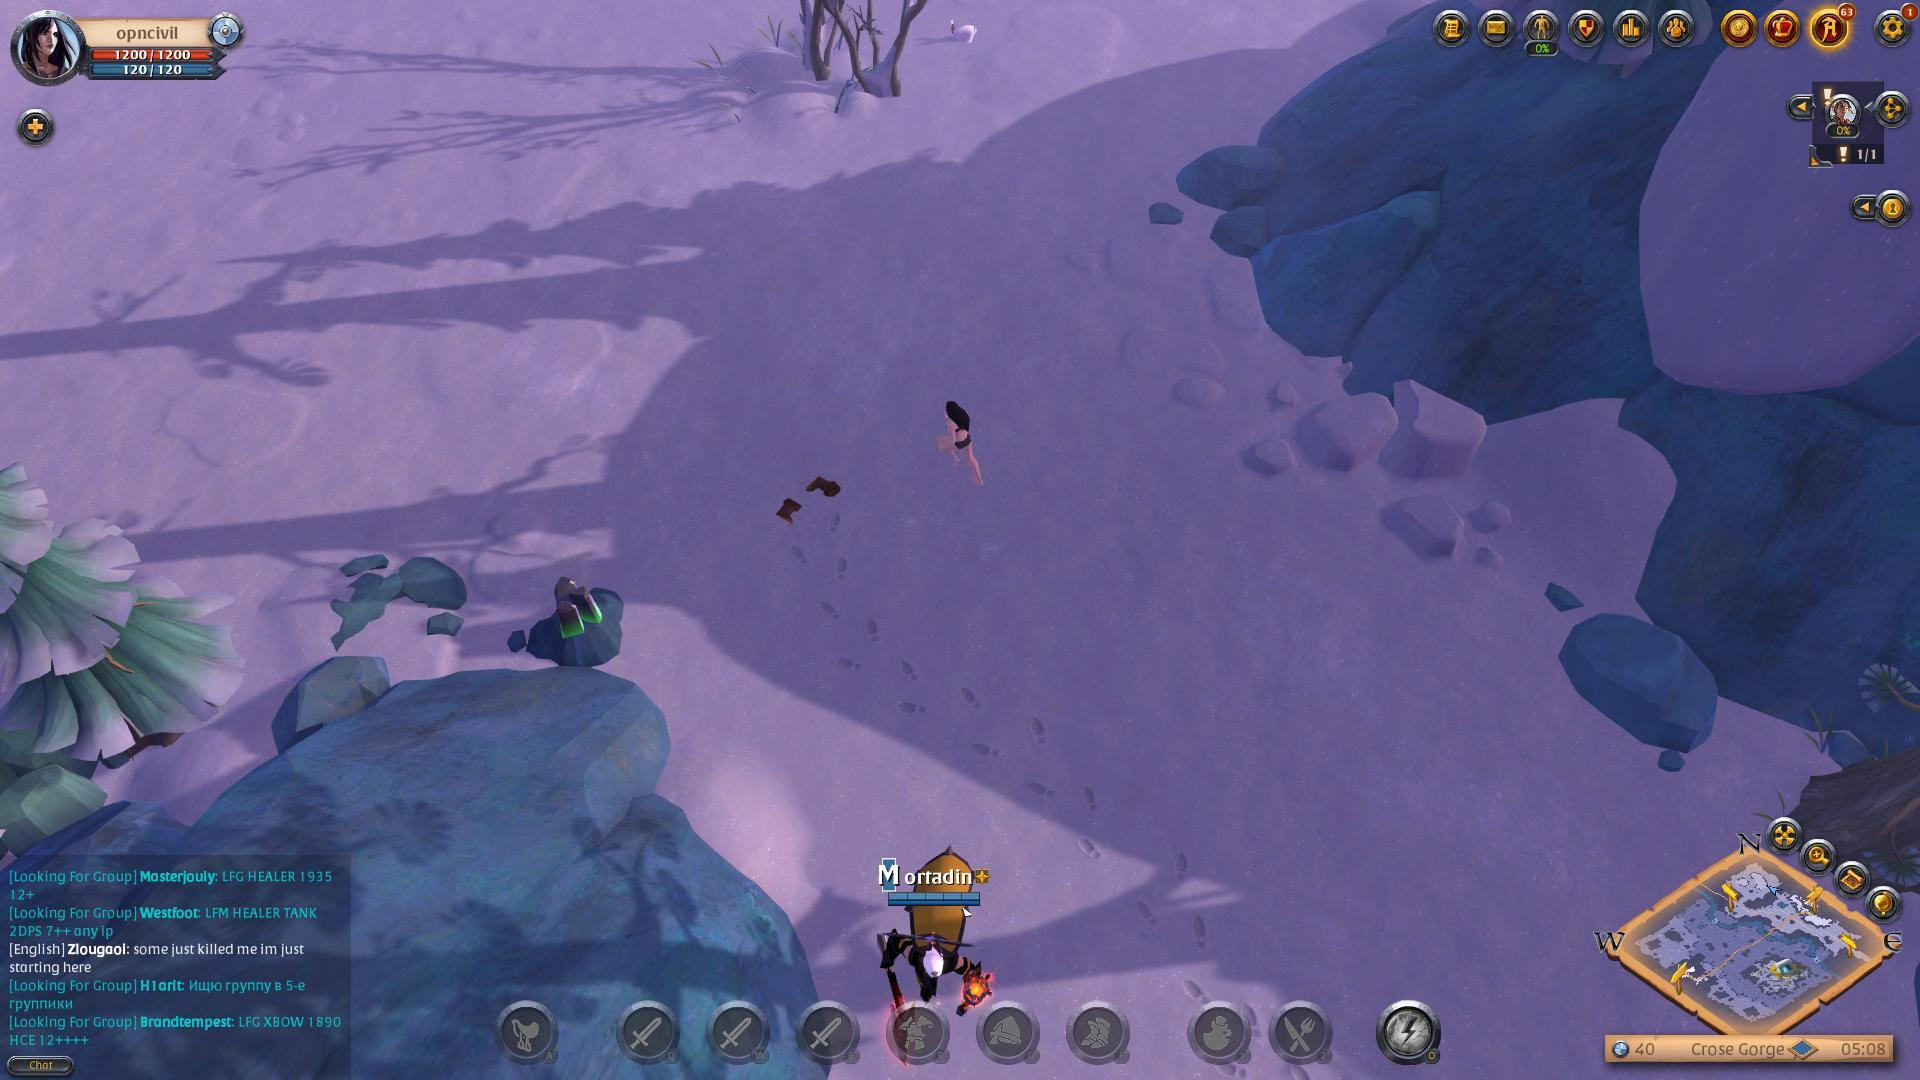tin_ore: (526, 562, 637, 674)
